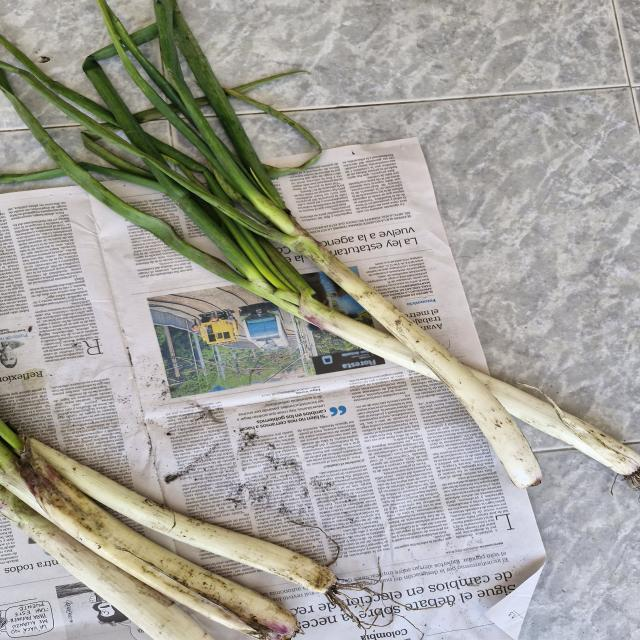green_onion: (0, 0, 550, 491)
